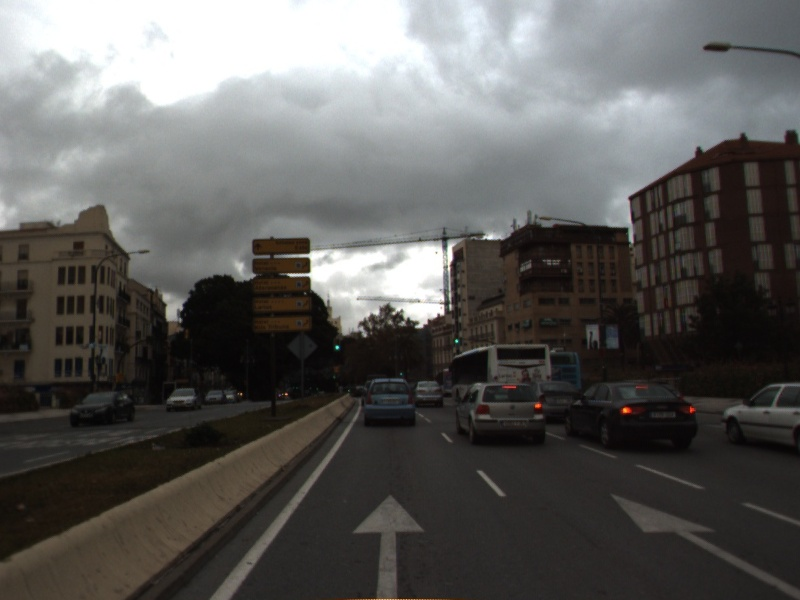STRAIGHT: (606, 490, 800, 599), (348, 490, 430, 600)
